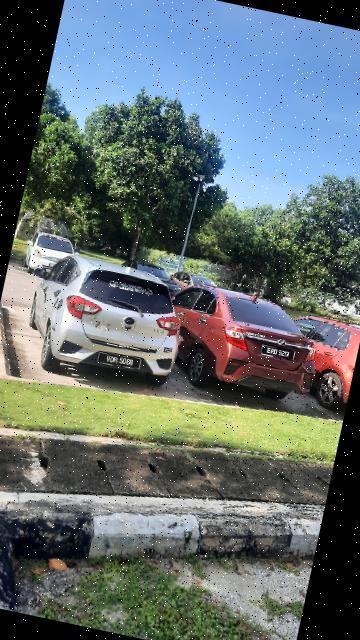License_Plate: (97, 349, 147, 375), (260, 344, 300, 365)
car: (21, 250, 194, 398), (172, 280, 334, 411)
